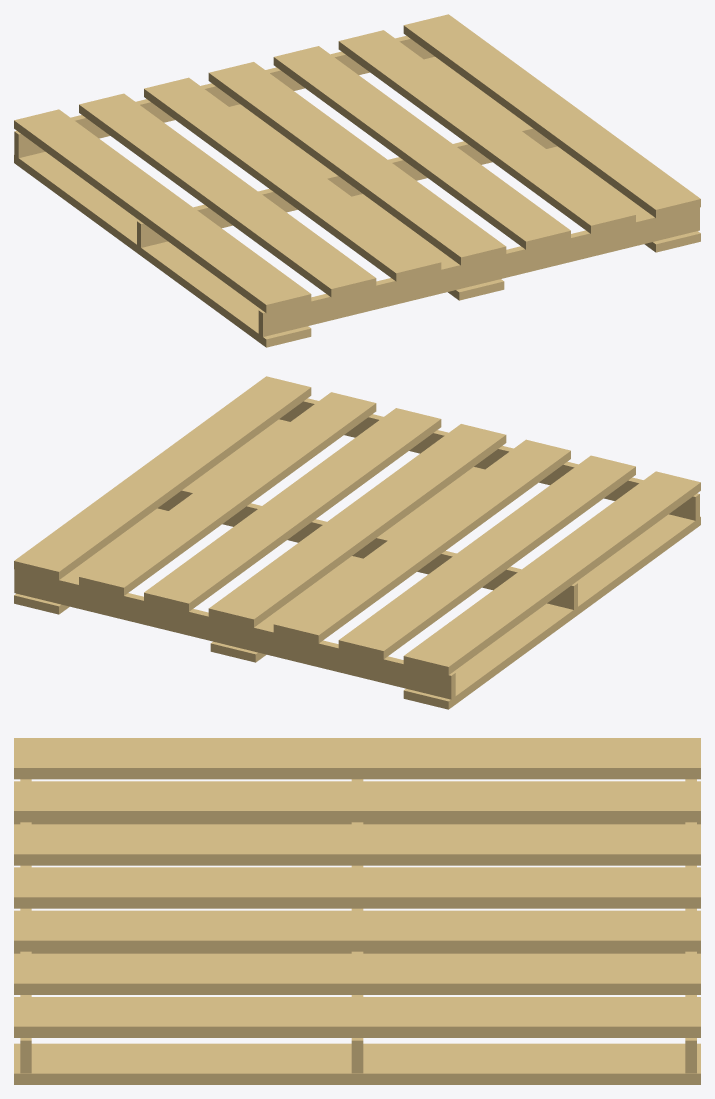
The model's file is pallet.fbx.
3 renders of one model, top to bottom at view 1: azimuth 30°, elevation 25°; view 2: azimuth 150°, elevation 25°; view 3: azimuth 270°, elevation 25°, orthographic. The views are drawn at different scales.
Parts seen in each view (by area): view 1: Pallet; view 2: Pallet; view 3: Pallet.
Boxes of the visible parts, <box> form: Pallet: <box>14,14,700,347</box>; Pallet: <box>14,376,700,709</box>; Pallet: <box>14,738,700,1084</box>.
Bounding box in the file's own units: 127 × 11.84 × 127.
